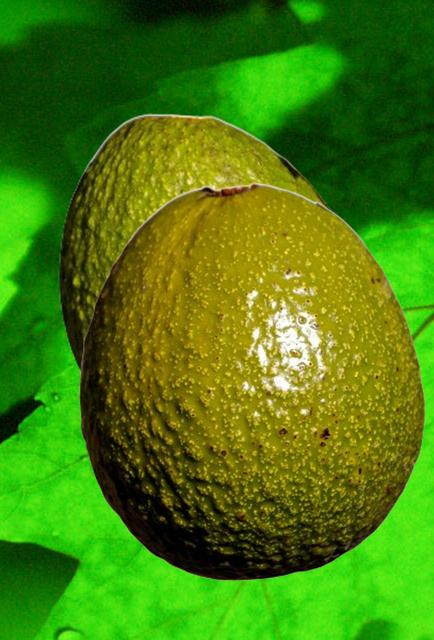avocado: (79, 182, 424, 579), (58, 113, 334, 374)
